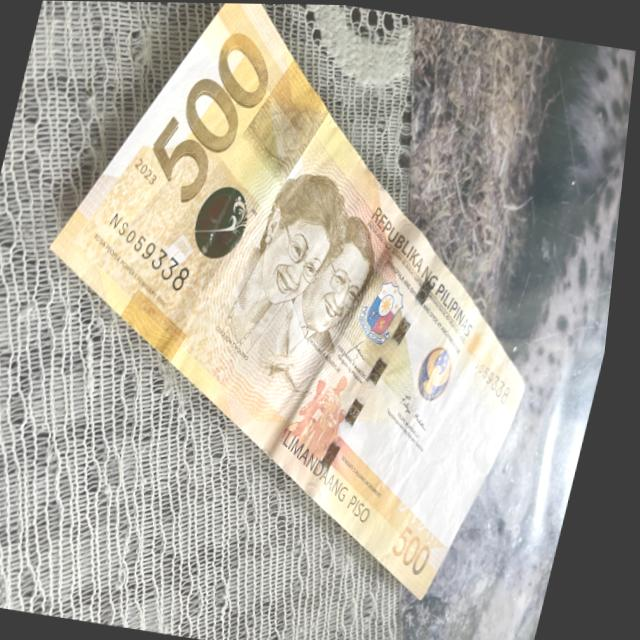concealed_value: (247, 60, 329, 190)
optically_variable_device: (187, 165, 263, 276)
security_thread: (324, 251, 451, 478)
see_through_mark: (394, 481, 457, 559)
serial_number: (90, 198, 222, 295), (465, 338, 524, 416)
value: (142, 15, 283, 222)
value_watermark: (447, 478, 479, 517)
